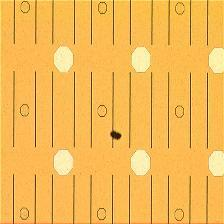PARTICLE: (109, 129, 125, 145)
